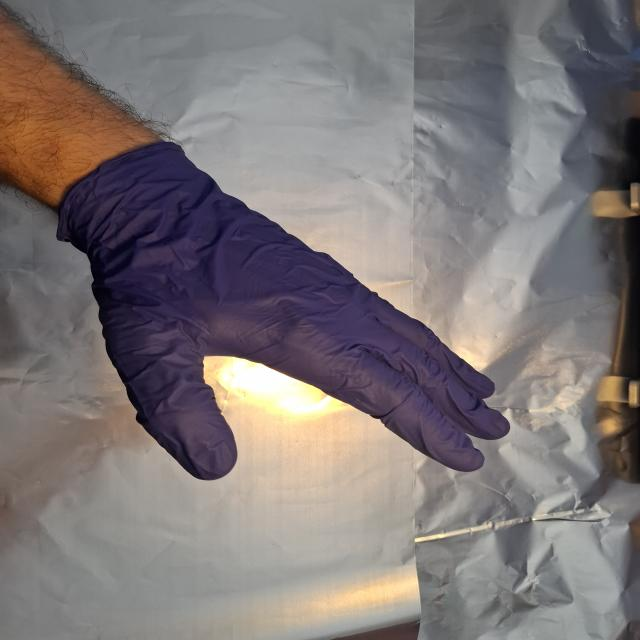glove_on: (50, 132, 517, 483)
